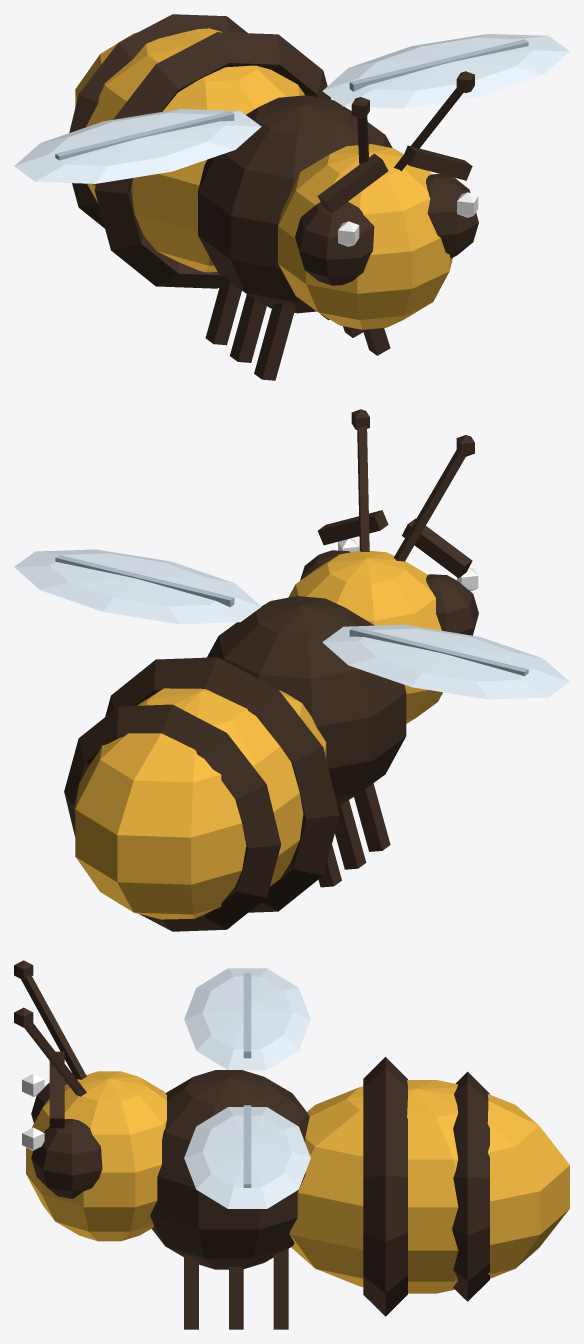
Rendered from biene.glb.
3 renders of one model, top to bottom at view 1: azimuth 30°, elevation 25°; view 2: azimuth 150°, elevation 25°; view 3: azimuth 270°, elevation 25°, orthographic. The views are drawn at different scales.
Parts seen in each view (by area): view 1: body-m, wing-0-m, wing-1-m; view 2: body-m, wing-1-m, wing-0-m; view 3: body-m, wing-0-m, wing-1-m.
Part boxes in pixels (x1,y1,x2,y2): body-m: (69,14,478,380); wing-0-m: (14,109,261,183); wing-1-m: (322,34,569,108); body-m: (64,409,478,931); wing-1-m: (14,549,261,624); wing-0-m: (322,624,569,699); body-m: (14,960,569,1329); wing-0-m: (184,968,310,1070); wing-1-m: (184,1105,310,1208).
Size of the model in its own units: 1.53 by 0.95 by 1.49.
